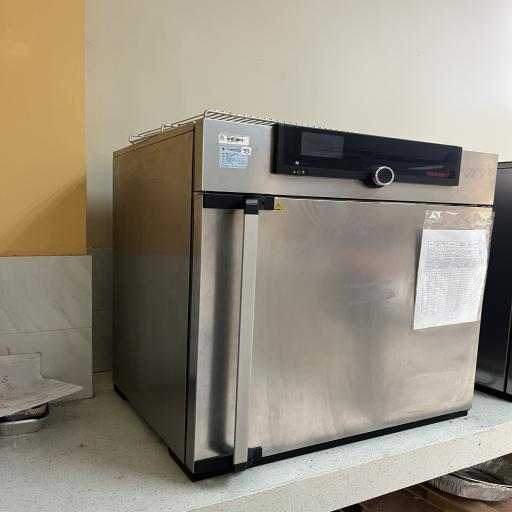Memmert_Unidad2: (95, 101, 509, 481)
